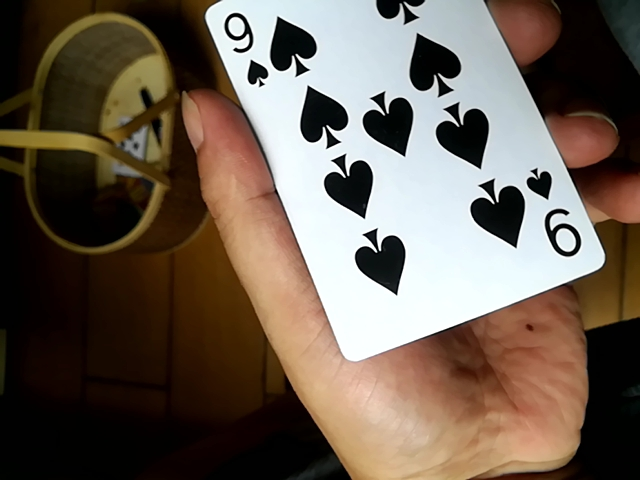ht 9: (203, 2, 606, 365)
